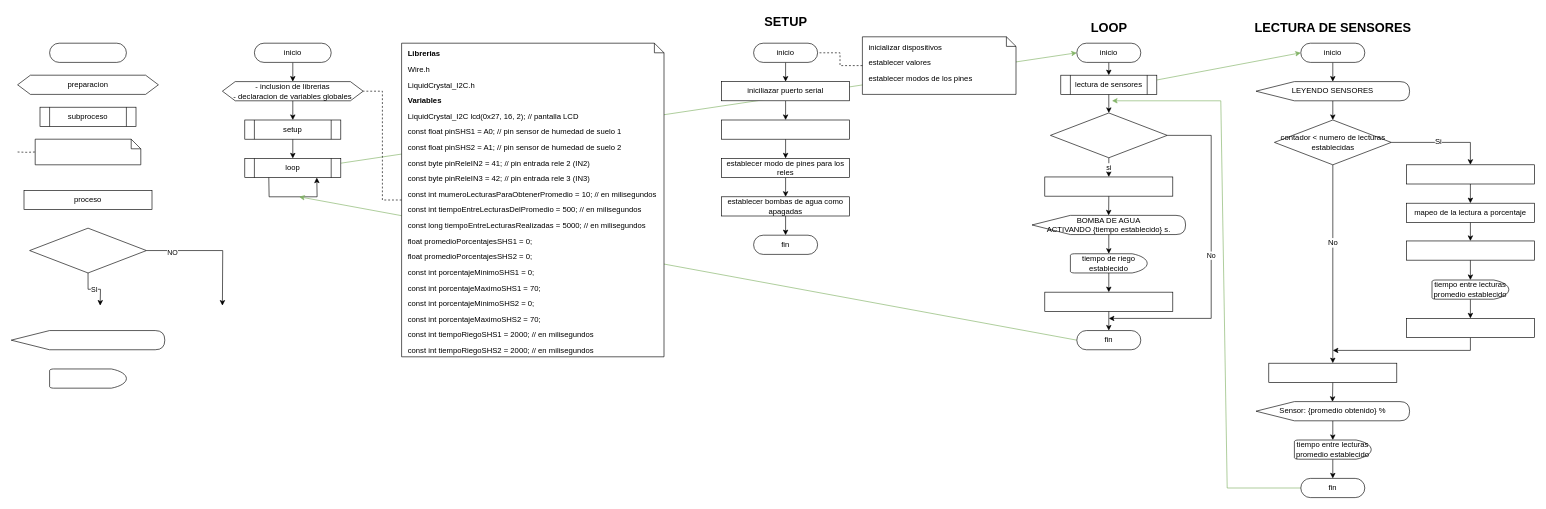
This 1546x509 diagram has some shape labels left out. Each missing label, with the centre of its shape:
apagar bomba de agua: the point at 1108,301
calcular promedio: the point at 1332,372
comentarios: the point at 88,152
decisiones: the point at 87,250
encender bomba de agua: the point at 1108,186
imprimir LCD: the point at 88,340
incrementar contador: the point at 1470,328
iniciliazar pantalla LCD: the point at 785,129
inicio/fin: the point at 87,52
leer sensores de humedad de suelo: the point at 1470,174
retraso (delay): the point at 87,378
sumar lecturas mapeadas: the point at 1470,250
¿promedio de lecturas de humedad es menor al requerido?: the point at 1108,135
